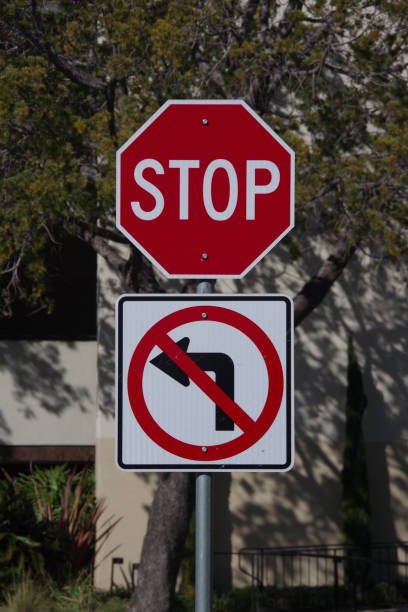sola_girilmez: (125, 311, 280, 460)
